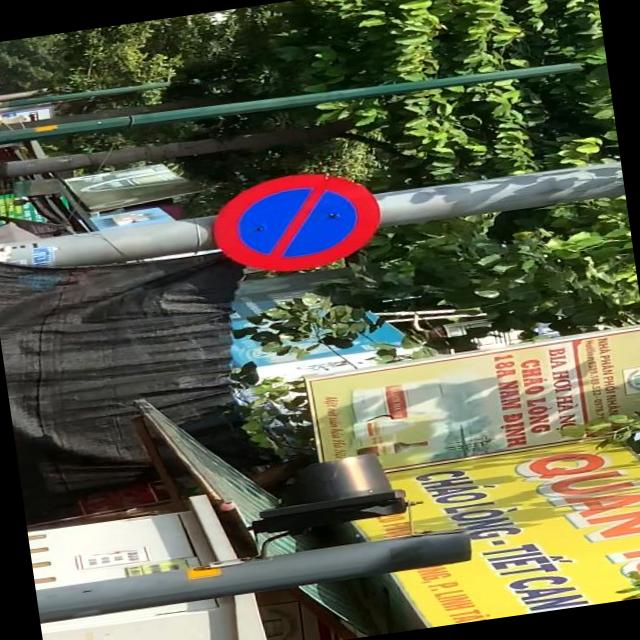P-131a: (206, 164, 387, 280)
